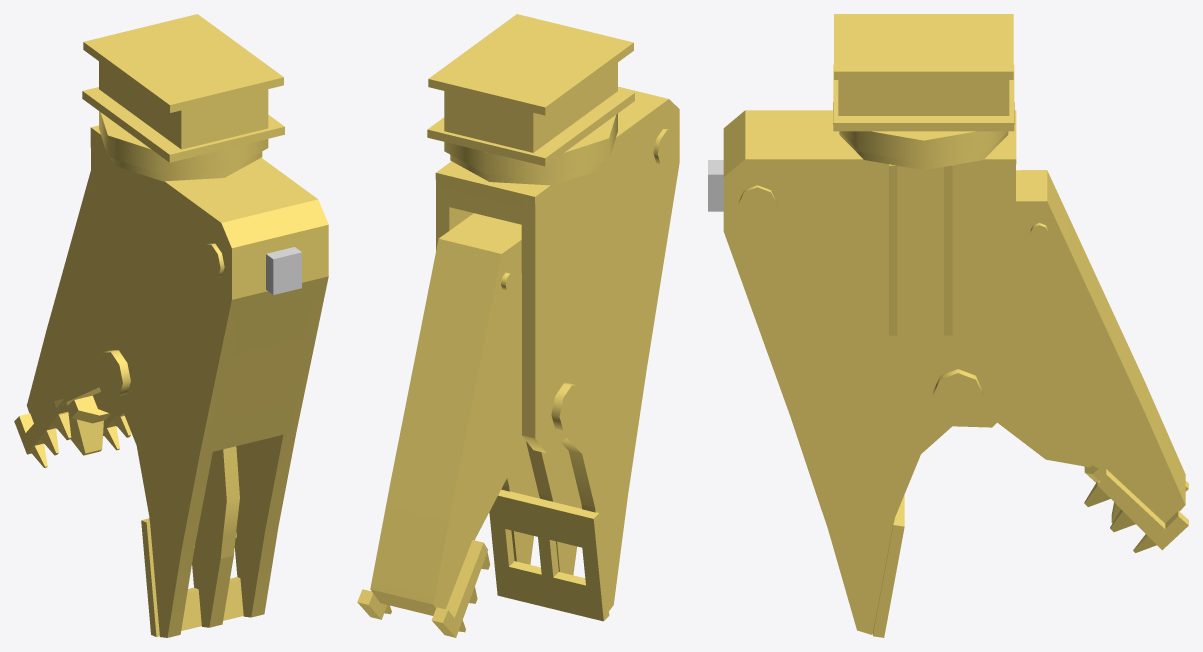
The picture shows the model from 3 angles, left to right: view 1: azimuth 30°, elevation 25°; view 2: azimuth 150°, elevation 25°; view 3: azimuth 270°, elevation 25°; orthographic projection. The views are drawn at different scales.
Visible parts, largest first — view 1: DP 2000; view 2: DP 2000; view 3: DP 2000.
Part boxes in pixels (box(x1,y1,x2,y2)): DP 2000: box(14, 14, 328, 637); DP 2000: box(357, 14, 679, 637); DP 2000: box(708, 14, 1188, 637).
Size of the model in its own units: 66.5 by 230 by 176.
